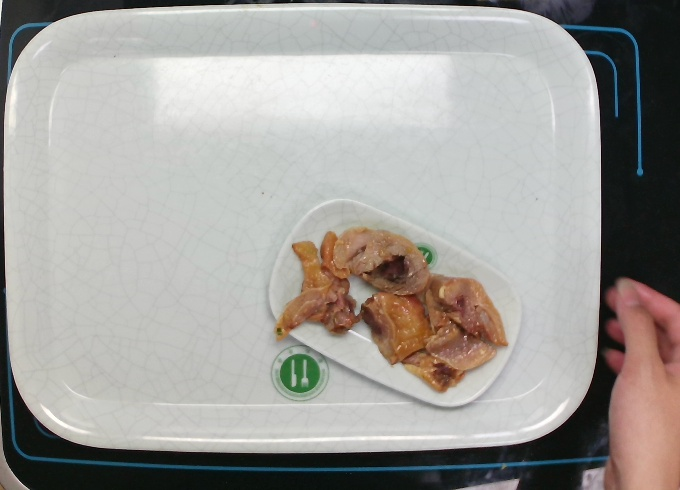WCQzf-Tuo_Yuan_Pan: (264, 195, 525, 412)
